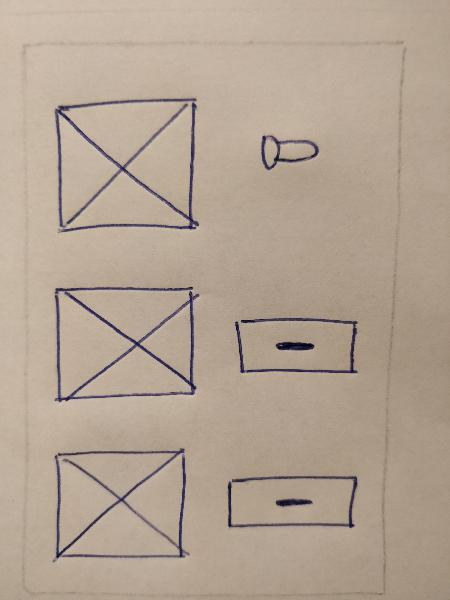button: (219, 468, 365, 540), (228, 308, 364, 384)
image: (45, 95, 210, 246), (45, 272, 210, 412), (46, 442, 194, 570)
switch: (255, 127, 324, 184)
